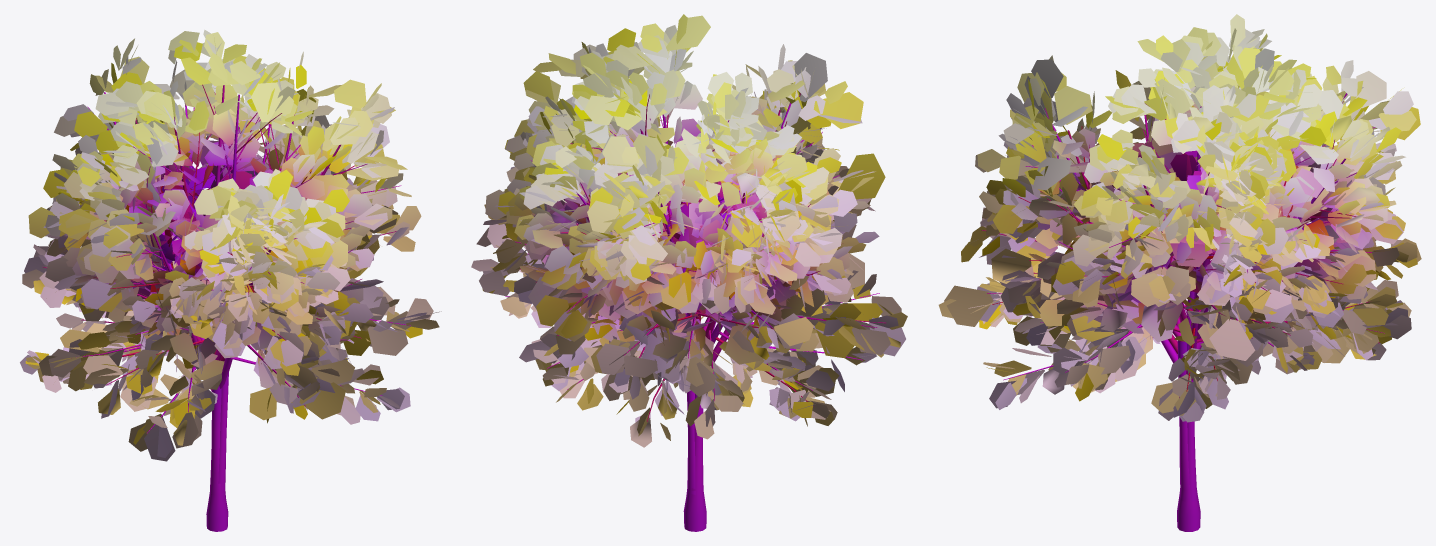
File: maple.glb
3 views of the same model, side by side, from view 1: azimuth 30°, elevation 25°; view 2: azimuth 150°, elevation 25°; view 3: azimuth 270°, elevation 25° (orthographic). The views are drawn at different scales.
Parts seen in each view (by area): view 1: maple_v2_lod0, maple_v0_lod0, maple_v1_lod0; view 2: maple_v2_lod0, maple_v0_lod0, maple_v1_lod0; view 3: maple_v0_lod0, maple_v2_lod0, maple_v1_lod0.
Boxes of the visible parts, x1,y1,x2,y2 form: maple_v2_lod0: (33, 38, 410, 531); maple_v0_lod0: (43, 29, 441, 501); maple_v1_lod0: (20, 68, 373, 392); maple_v2_lod0: (471, 14, 907, 531); maple_v0_lod0: (487, 28, 849, 439); maple_v1_lod0: (479, 69, 871, 500); maple_v0_lod0: (968, 45, 1421, 501); maple_v2_lod0: (938, 27, 1420, 531); maple_v1_lod0: (980, 14, 1392, 501).
Size of what is drawn, in the model's own units: 15.62 by 19.37 by 16.93.
